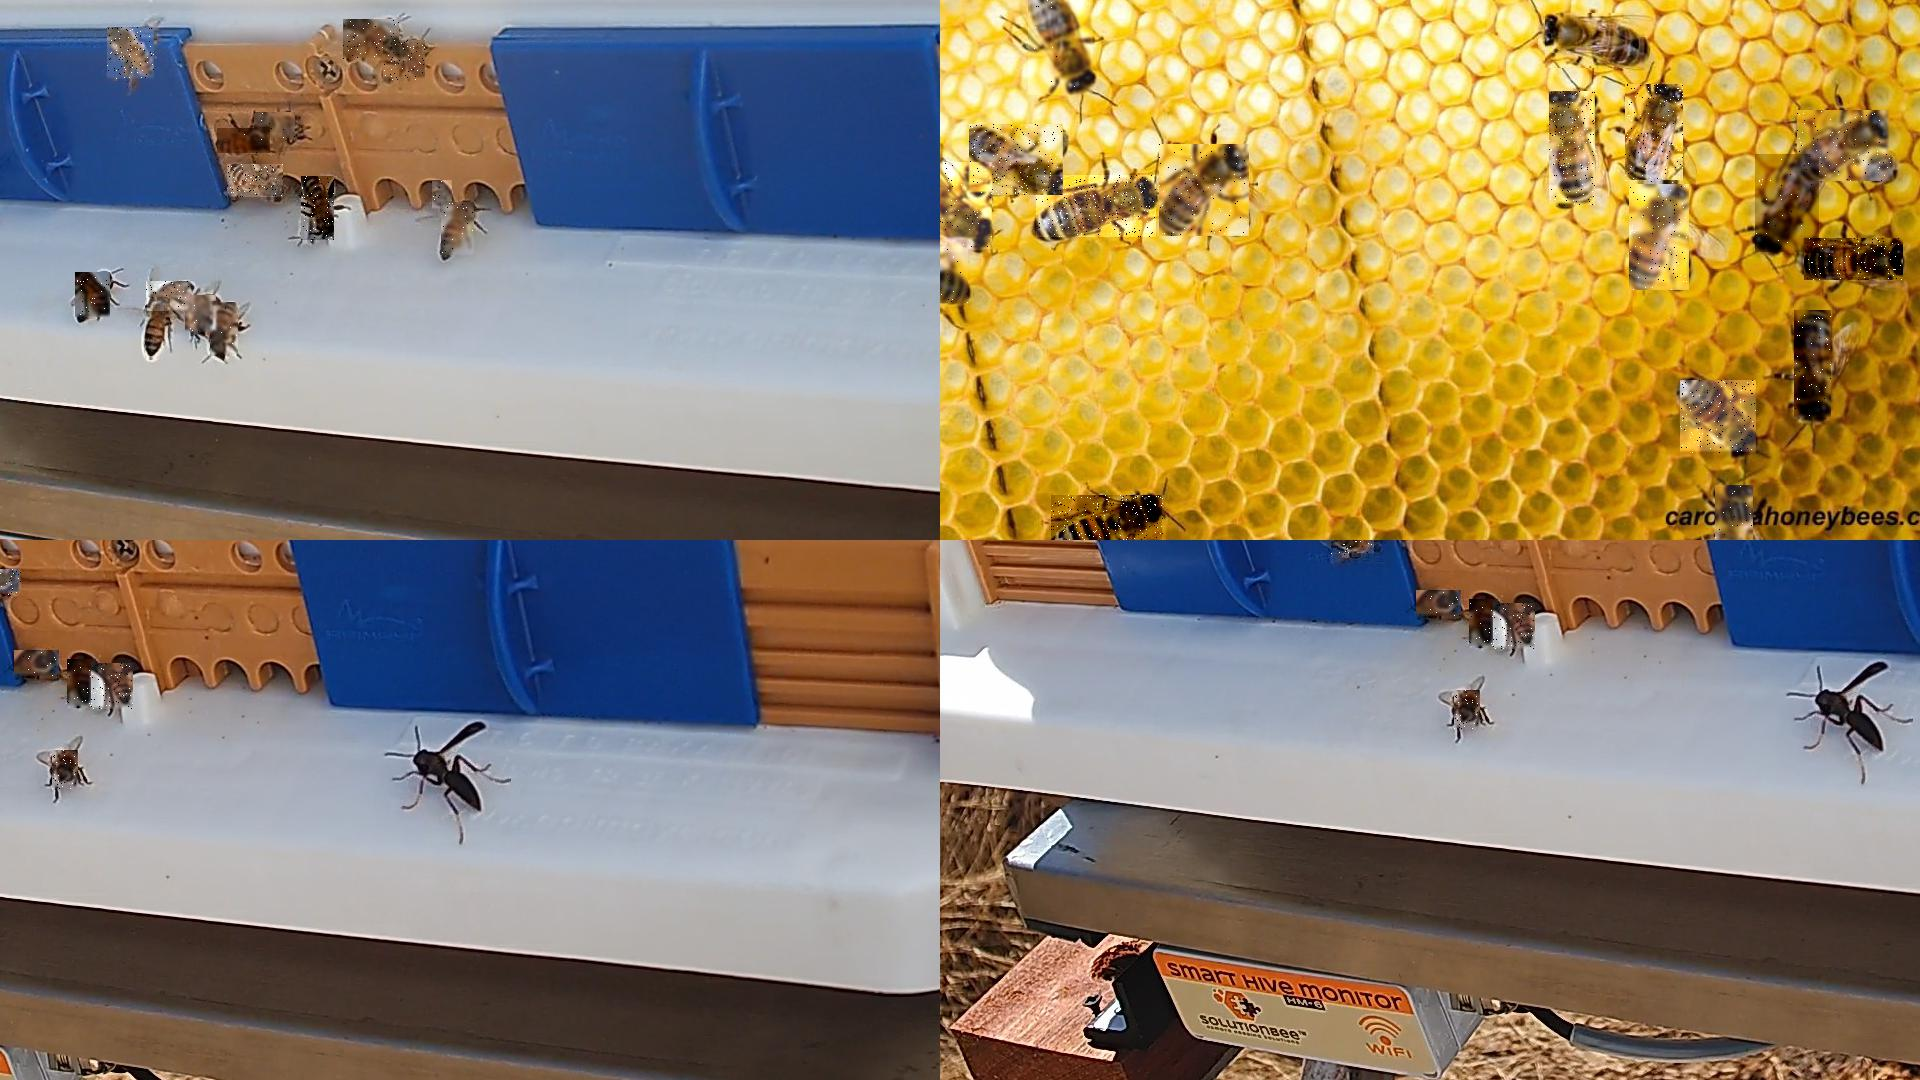bee: (1159, 144, 1250, 237), (1036, 175, 1156, 239), (969, 124, 1064, 196), (1797, 111, 1892, 182), (1630, 185, 1691, 291), (1029, 0, 1095, 98), (1755, 154, 1820, 253), (1625, 84, 1684, 185), (1680, 381, 1758, 455), (1545, 13, 1644, 69), (1549, 92, 1596, 208), (1051, 495, 1166, 539), (940, 162, 994, 253), (1804, 239, 1904, 281), (1795, 311, 1833, 419), (107, 28, 156, 82), (343, 20, 400, 61), (301, 177, 335, 244), (1716, 485, 1755, 539), (91, 663, 135, 712), (1493, 604, 1536, 651), (227, 165, 284, 200), (442, 203, 475, 257), (384, 41, 426, 82), (940, 249, 971, 305), (75, 273, 111, 319), (145, 299, 171, 361), (210, 303, 239, 357), (67, 659, 98, 709), (1469, 600, 1499, 649), (148, 282, 194, 314), (218, 128, 272, 154), (15, 650, 61, 679), (185, 295, 218, 335), (1416, 591, 1462, 618), (255, 113, 297, 141), (51, 750, 79, 791), (1455, 691, 1481, 731), (1331, 539, 1375, 558), (0, 568, 24, 597), (433, 181, 454, 212)
